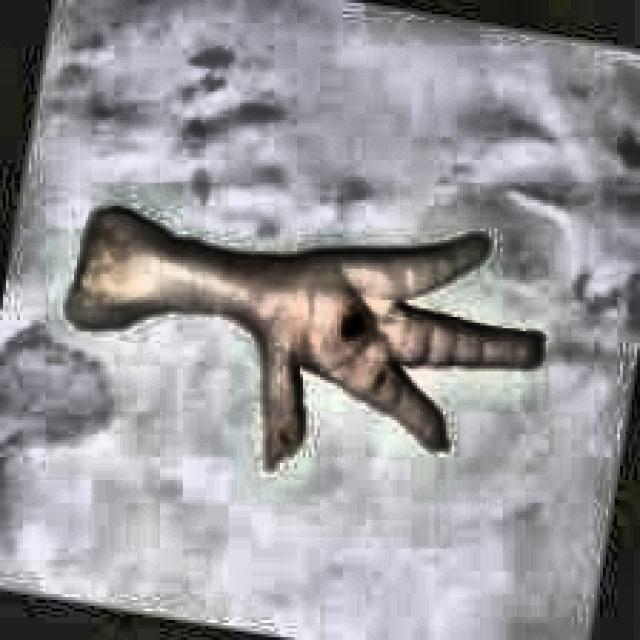Bumble foot: (329, 301, 390, 351)
